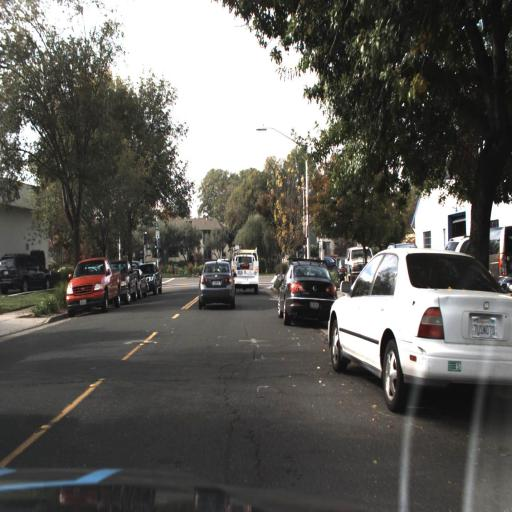car: (327, 243, 511, 413), (275, 254, 338, 324), (277, 256, 337, 324), (62, 253, 120, 318), (0, 252, 52, 297), (196, 255, 235, 310), (228, 241, 261, 293), (339, 242, 375, 288), (111, 254, 141, 305), (138, 258, 165, 299)
truck: (231, 249, 259, 293)
